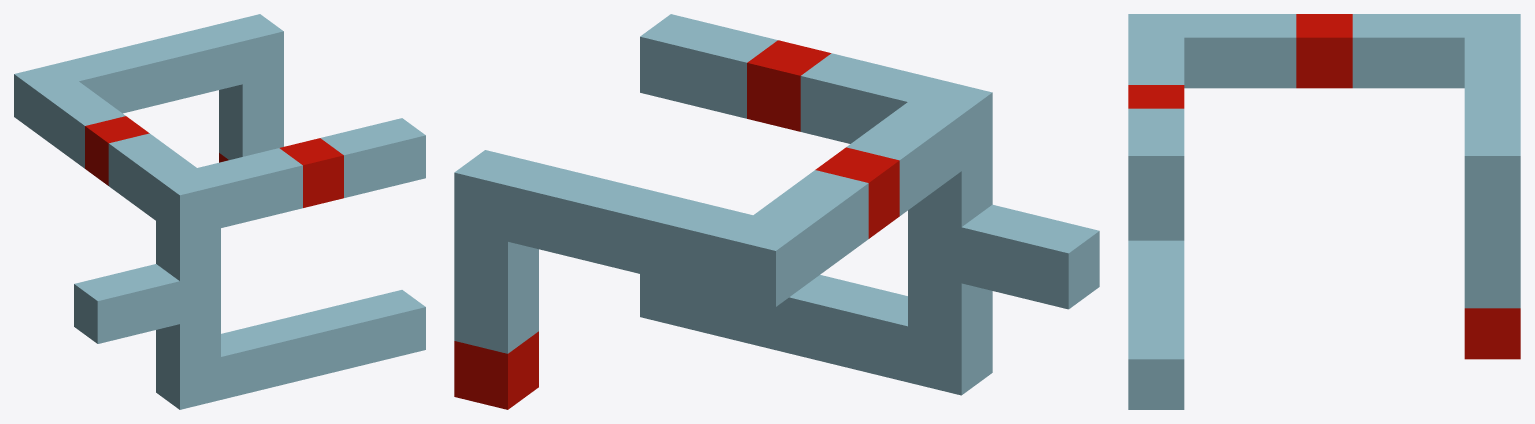
Rendered from LevelPlatform_2.fbx.
The picture shows the model from 3 angles, left to right: view 1: azimuth 30°, elevation 25°; view 2: azimuth 150°, elevation 25°; view 3: azimuth 270°, elevation 25°; orthographic projection. The views are drawn at different scales.
Parts seen in each view (by area): view 1: Cube.010; view 2: Cube.010; view 3: Cube.010.
Boxes of the visible parts, left/top/right/bottom form: Cube.010: left=14, top=14, right=425, bottom=409; Cube.010: left=454, top=14, right=1099, bottom=409; Cube.010: left=1128, top=14, right=1520, bottom=409.
Bounding box in the file's own units: 1400 × 1600 × 1000.
